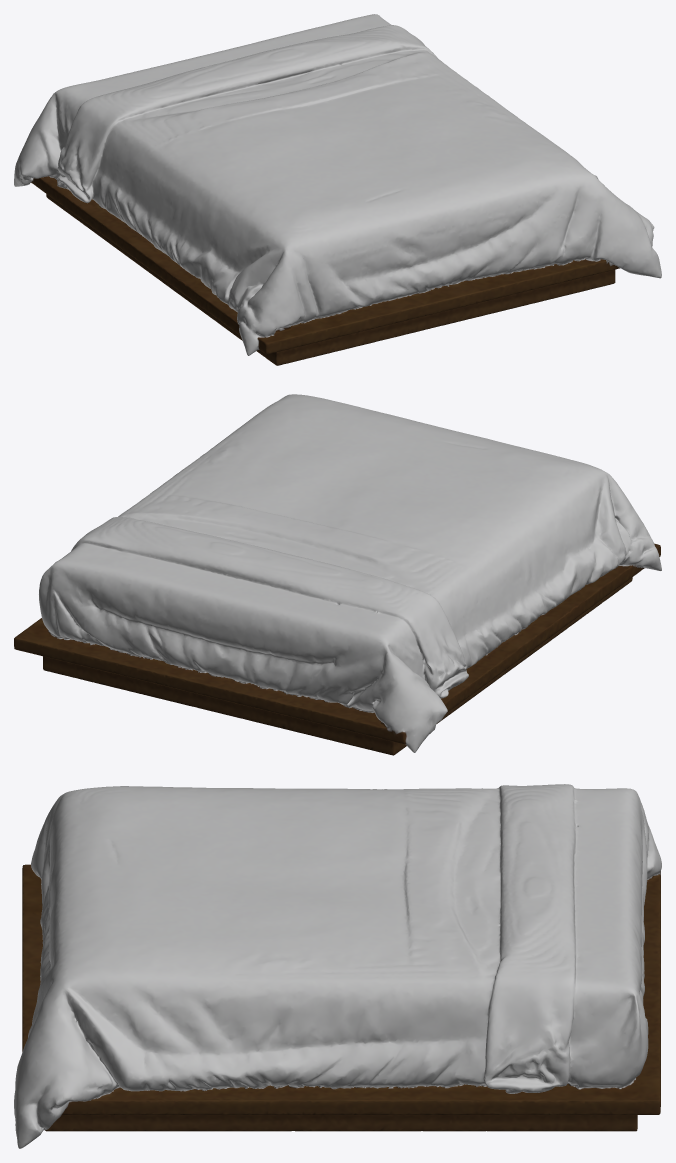
The model's file is bed.glb.
3 renders of one model, top to bottom at view 1: azimuth 30°, elevation 25°; view 2: azimuth 150°, elevation 25°; view 3: azimuth 270°, elevation 25°, orthographic. The views are drawn at different scales.
Bounding box in the file's own units: 0.959 × 0.2687 × 0.9961.
